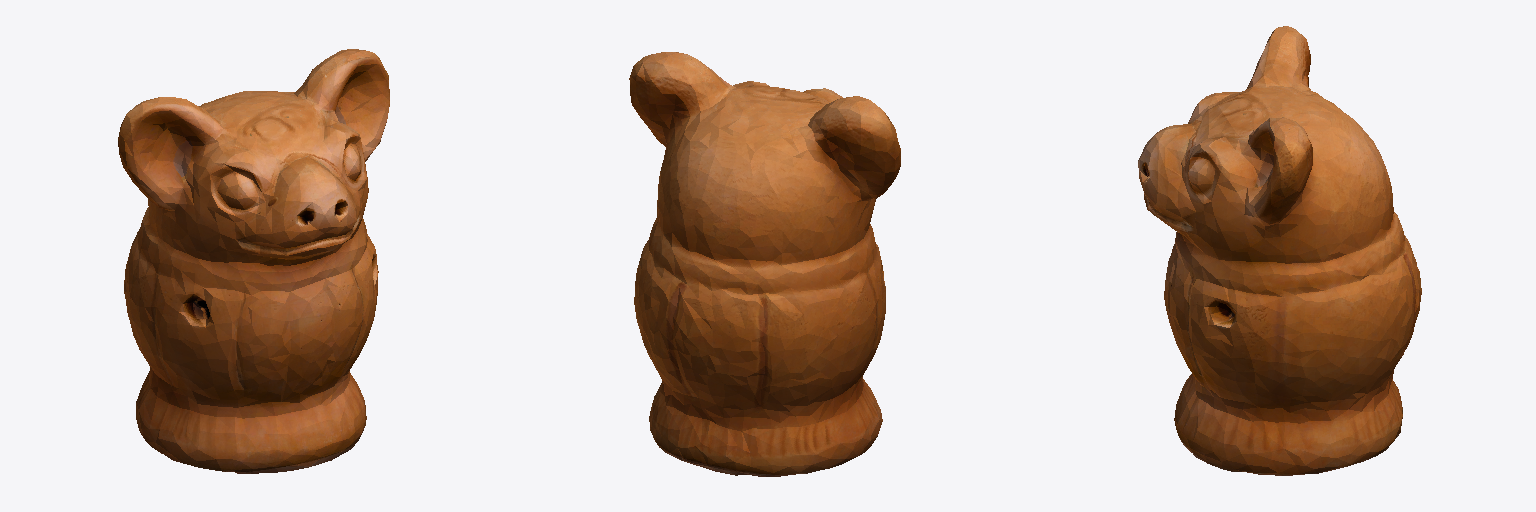
3 renders of one model, left to right at view 1: azimuth 30°, elevation 25°; view 2: azimuth 150°, elevation 25°; view 3: azimuth 270°, elevation 25°, orthographic.
Parts seen in each view (by area): view 1: murcielago_[number redacted]_texture; view 2: murcielago_[number redacted]_texture; view 3: murcielago_[number redacted]_texture.
Part boxes in pixels (x1,y1,x2,y2): murcielago_[number redacted]_texture: (118,49,389,473); murcielago_[number redacted]_texture: (629,52,900,476); murcielago_[number redacted]_texture: (1138,26,1421,475).
Size of the model in its own units: 1.55 by 2 by 1.44.
Materials: 1 (1 with a texture image).